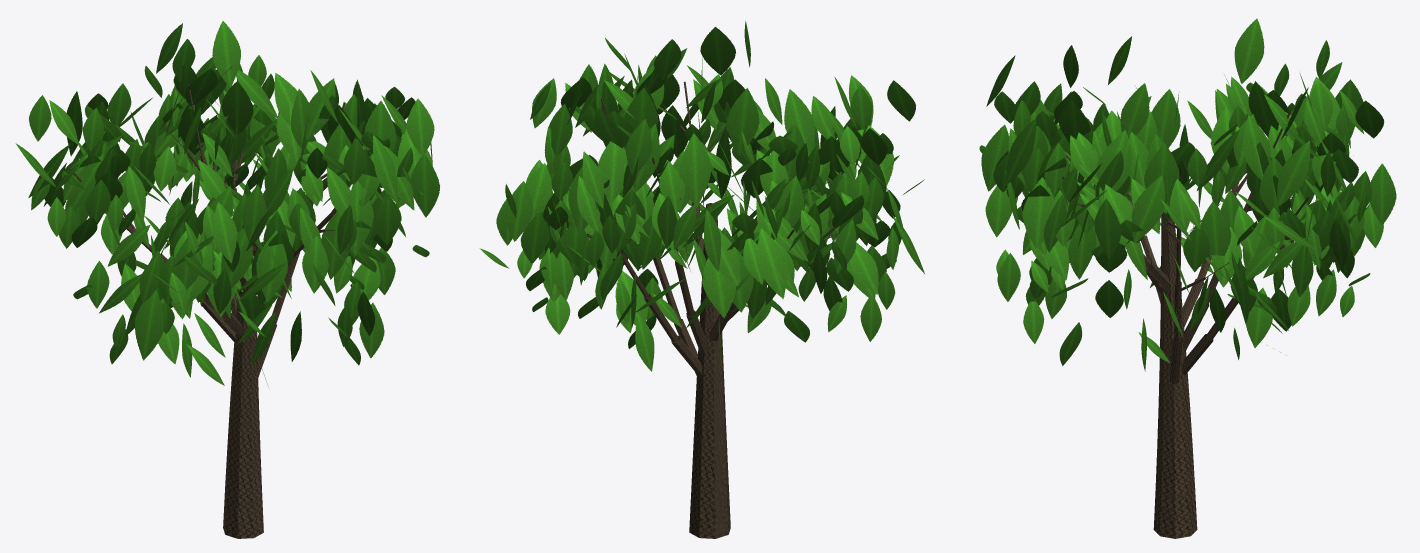
The model's file is monzon-tree-v2.glb.
3 views of the same model, side by side, from view 1: azimuth 30°, elevation 25°; view 2: azimuth 150°, elevation 25°; view 3: azimuth 270°, elevation 25° (orthographic). The views are drawn at different scales.
Visible parts, largest first — view 1: leaves, bark; view 2: leaves, bark; view 3: leaves, bark.
Boxes of the visible parts, left/top/right/bottom form: leaves: left=15, top=21, right=439, bottom=386; bark: left=68, top=84, right=365, bottom=538; leaves: left=479, top=21, right=924, bottom=371; bark: left=558, top=81, right=838, bottom=538; leaves: left=979, top=18, right=1396, bottom=371; bark: left=1050, top=111, right=1309, bottom=538.
Bounding box in the file's own units: 10.45 × 12.22 × 10.35.
Materials: 2 (2 with a texture image).
